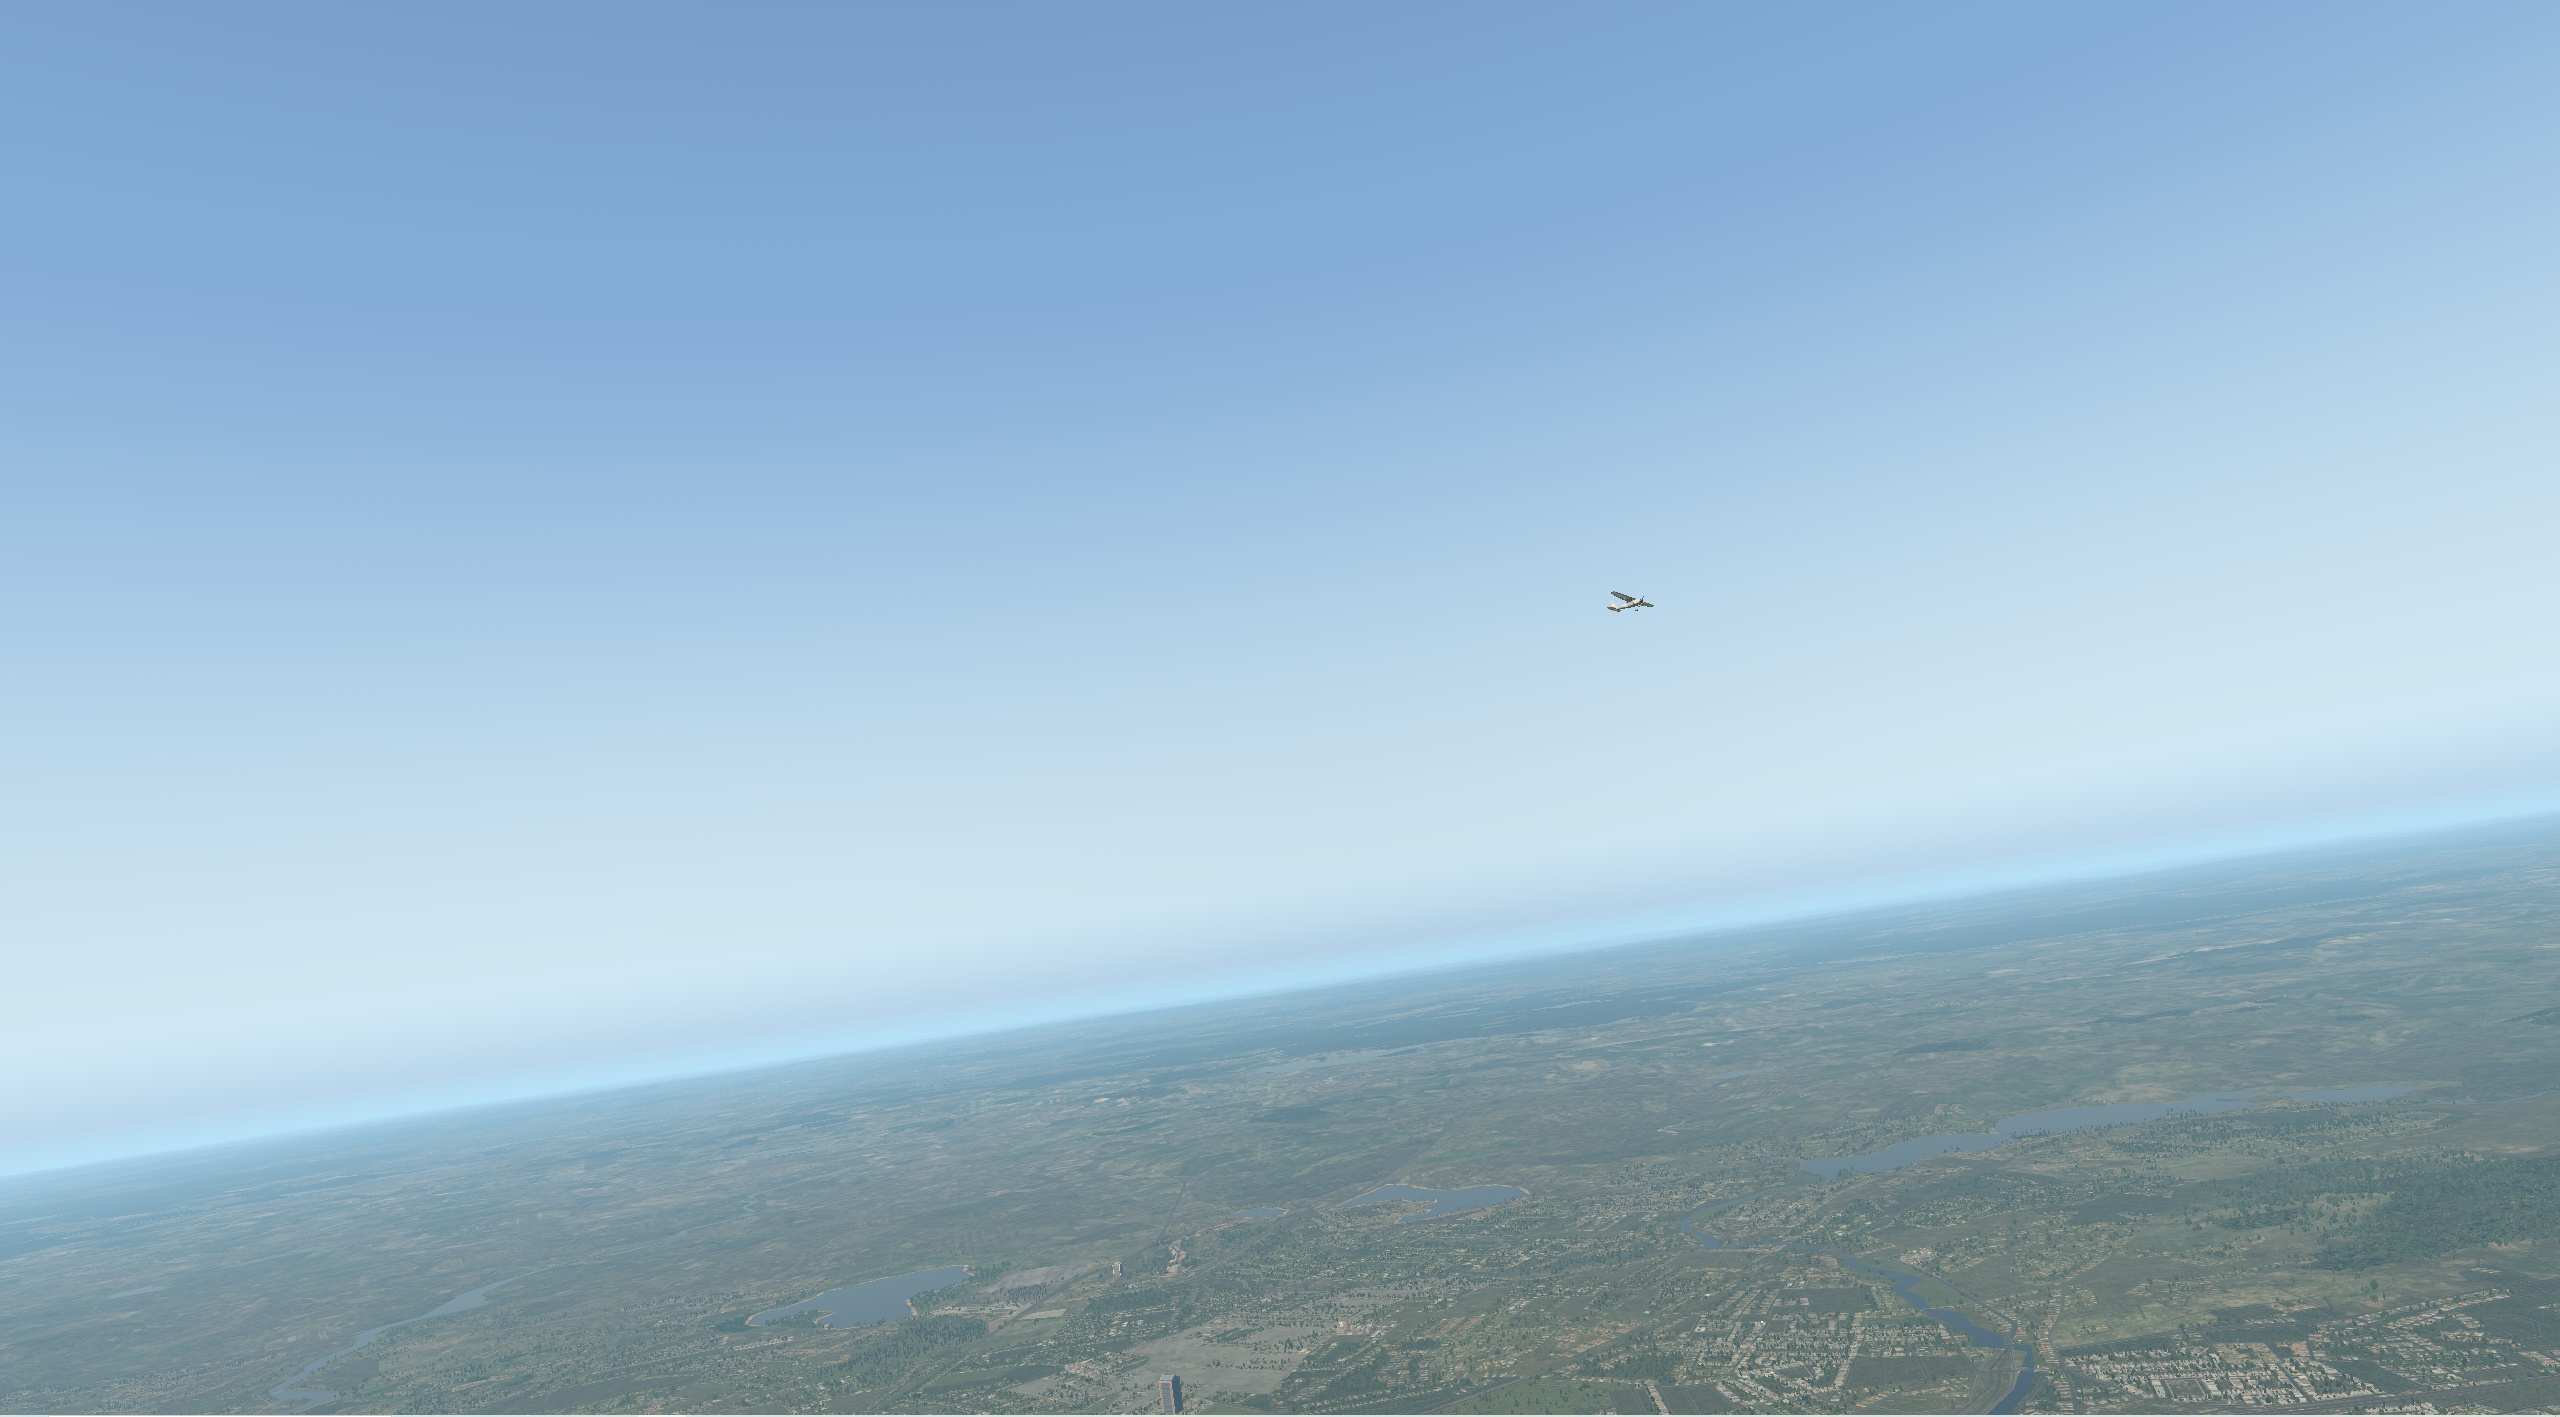aircraft: (1598, 590, 1668, 616)
